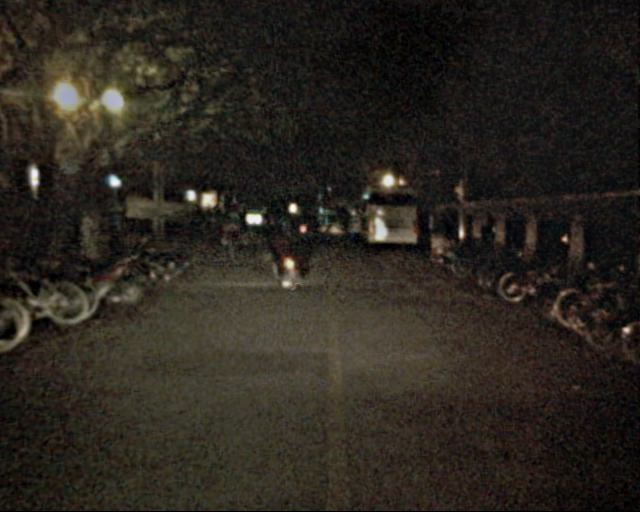person: (271, 214, 297, 277), (222, 213, 241, 260), (332, 216, 350, 242)
